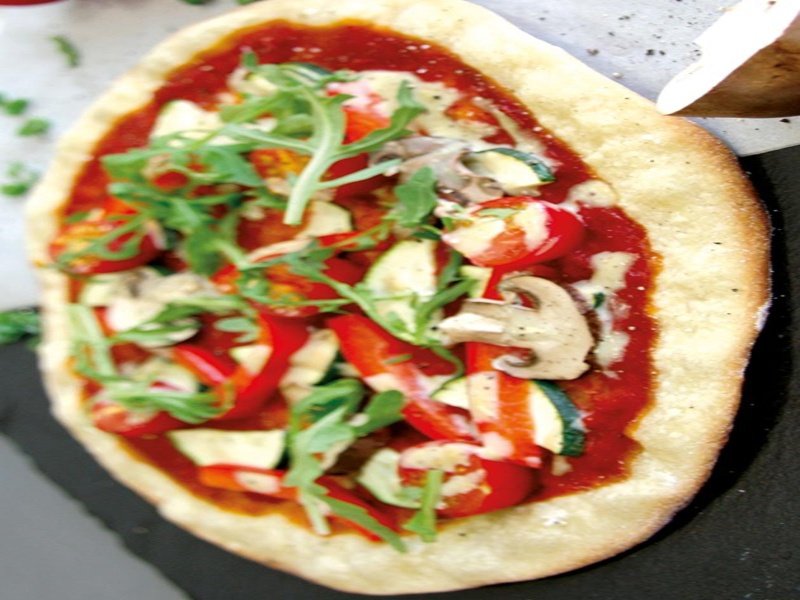champignon: (447, 270, 614, 394)
